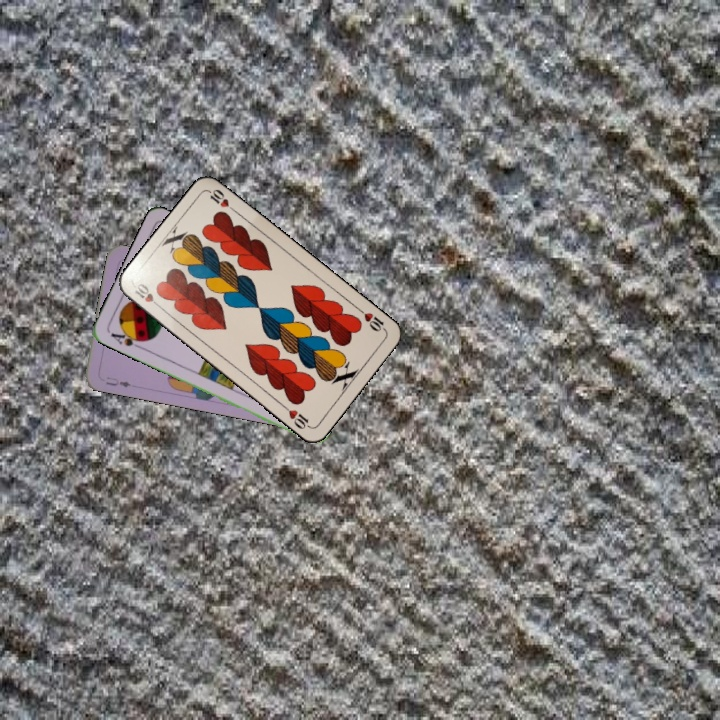EU: (102, 373, 133, 390)
H10: (130, 279, 165, 311), (354, 304, 388, 334)
SA: (107, 326, 147, 352)
